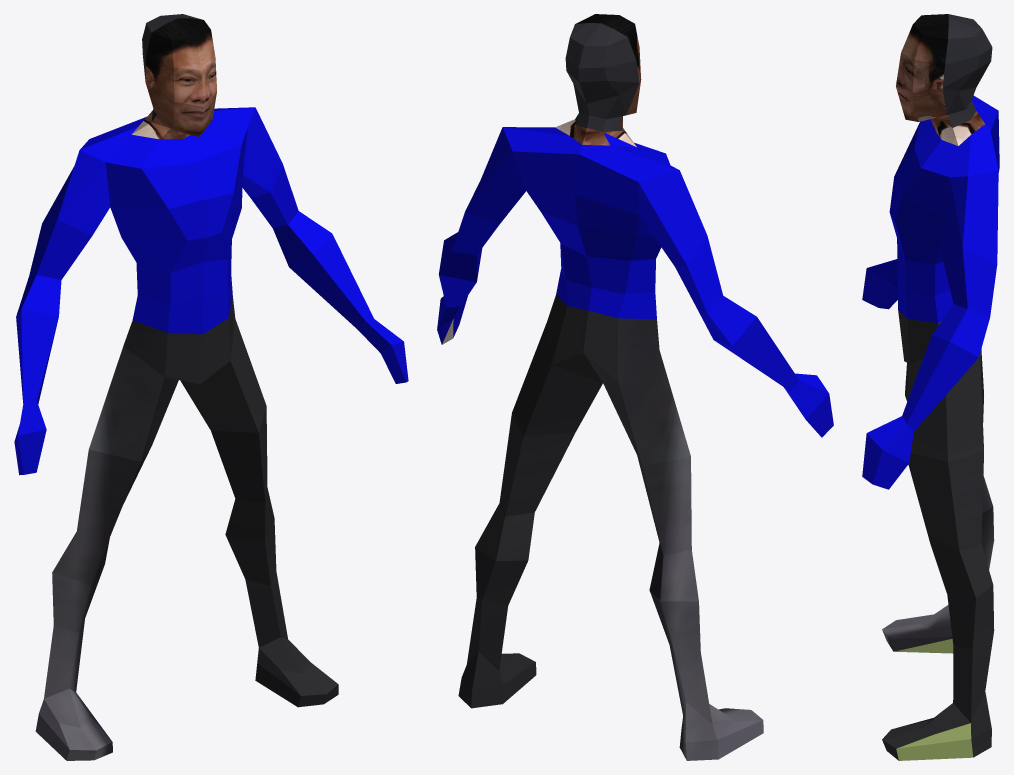
3 renders of one model, left to right at view 1: azimuth 30°, elevation 25°; view 2: azimuth 150°, elevation 25°; view 3: azimuth 270°, elevation 25°, orthographic. The views are drawn at different scales.
Parts seen in each view (by area): view 1: BASE_Low_Poly_Man_Cube.001; view 2: BASE_Low_Poly_Man_Cube.001; view 3: BASE_Low_Poly_Man_Cube.001.
Part boxes in pixels (box(x1,y1,x2,y2)): BASE_Low_Poly_Man_Cube.001: box(14, 14, 408, 760); BASE_Low_Poly_Man_Cube.001: box(437, 14, 833, 760); BASE_Low_Poly_Man_Cube.001: box(862, 14, 999, 760).
Size of the model in its own units: 317 by 542 by 99.74.
